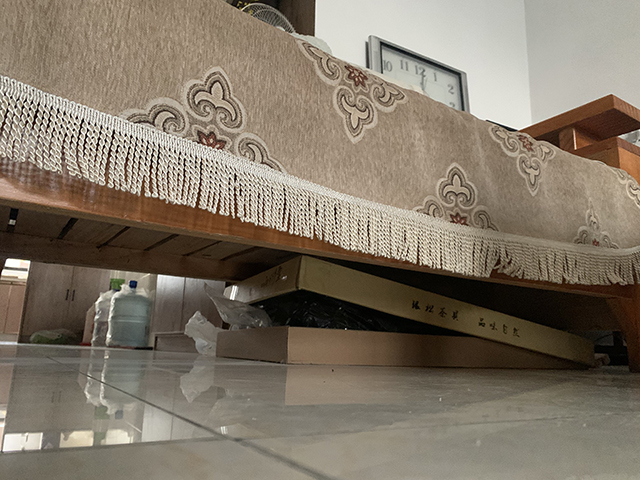cabinet: (17, 261, 225, 353), (1, 278, 26, 340)
sofa: (1, 1, 640, 370)
